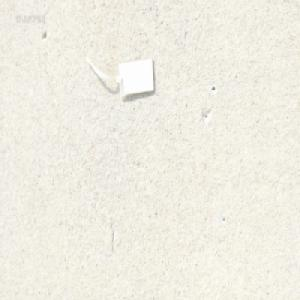LuggageTag: (84, 54, 156, 100)
